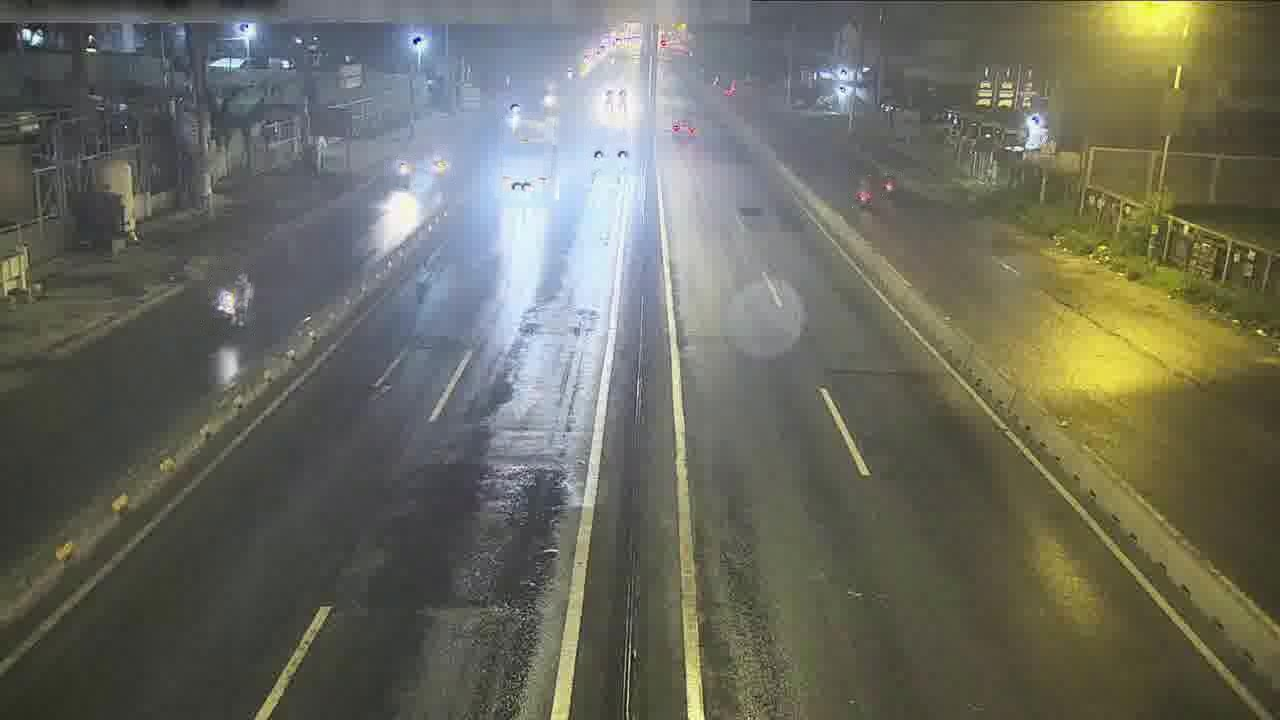Bus: (586, 122, 632, 174)
Motorcyclist: (211, 270, 254, 330), (852, 175, 874, 211), (392, 157, 412, 189), (430, 153, 450, 177), (880, 172, 897, 198)
Truck: (497, 113, 558, 203)
